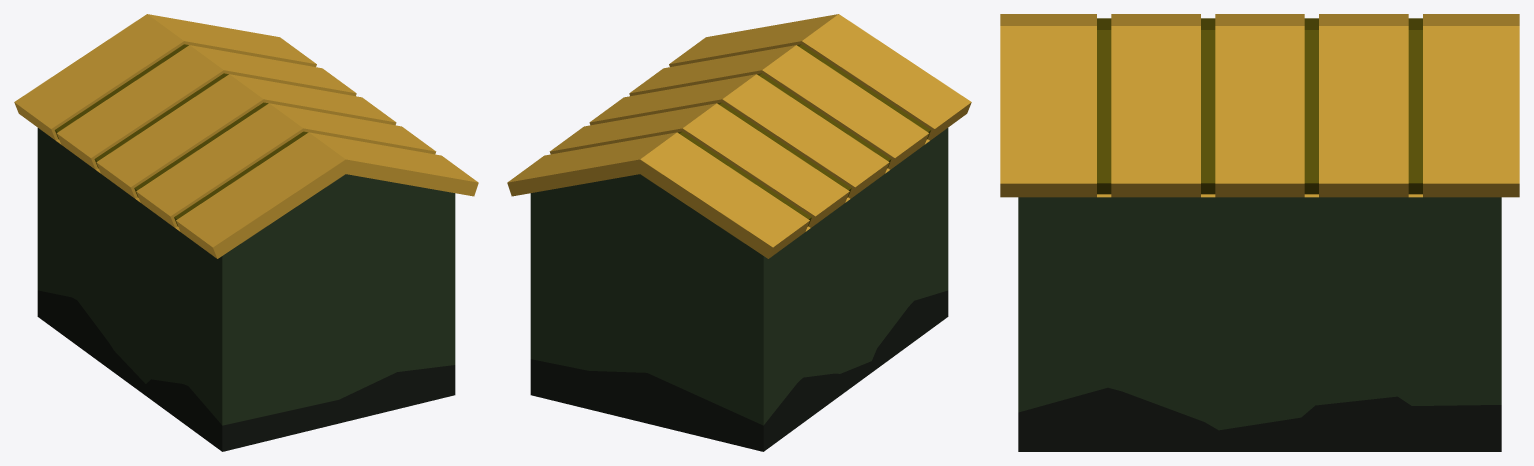
Rendered from House_Green.fbx.
3 renders of one model, left to right at view 1: azimuth 30°, elevation 25°; view 2: azimuth 150°, elevation 25°; view 3: azimuth 270°, elevation 25°, orthographic. The views are drawn at different scales.
Visible parts, largest first — view 1: Mesh (4); view 2: Mesh (4); view 3: Mesh (4).
Part boxes in pixels (x1,y1,x2,y2): Mesh (4): (14, 14, 478, 451); Mesh (4): (507, 14, 971, 451); Mesh (4): (1000, 14, 1519, 451).
Bounding box in the file's own units: 542 × 524 × 702.
